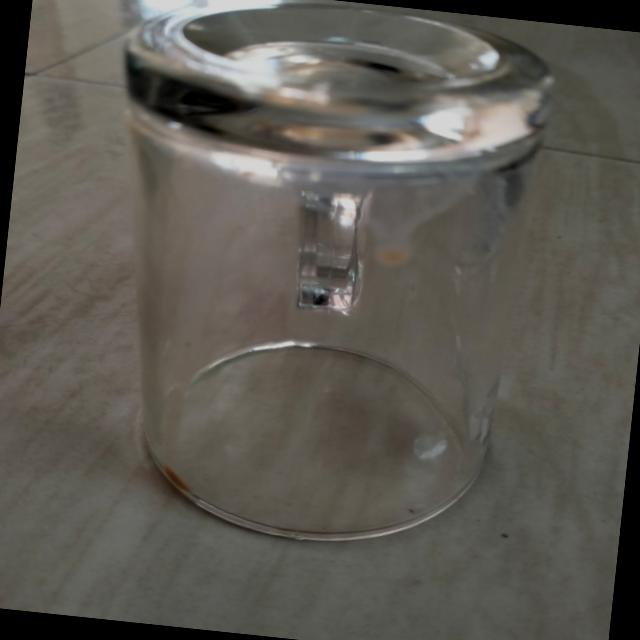glass-VX4N: (73, 0, 561, 560)
